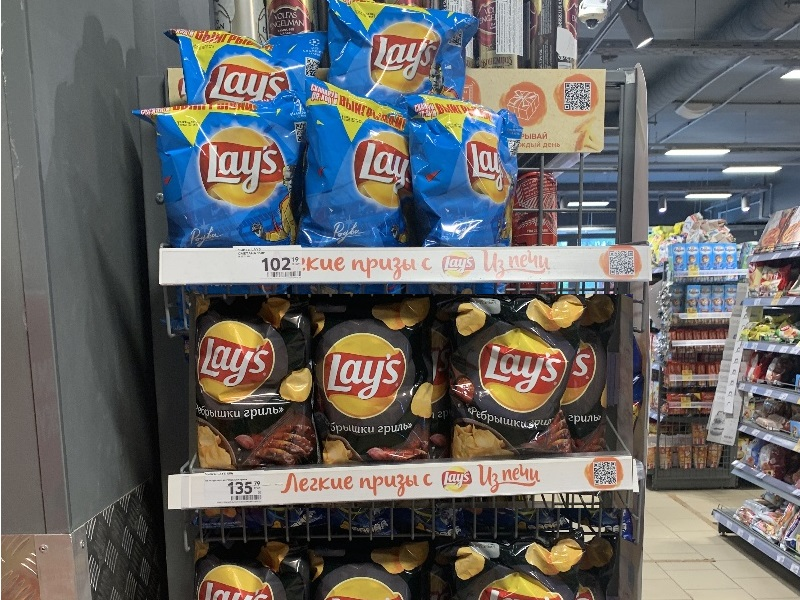chips: (129, 93, 309, 255), (175, 290, 323, 473), (304, 295, 449, 472), (442, 294, 591, 460), (288, 71, 418, 249), (408, 95, 524, 248)
